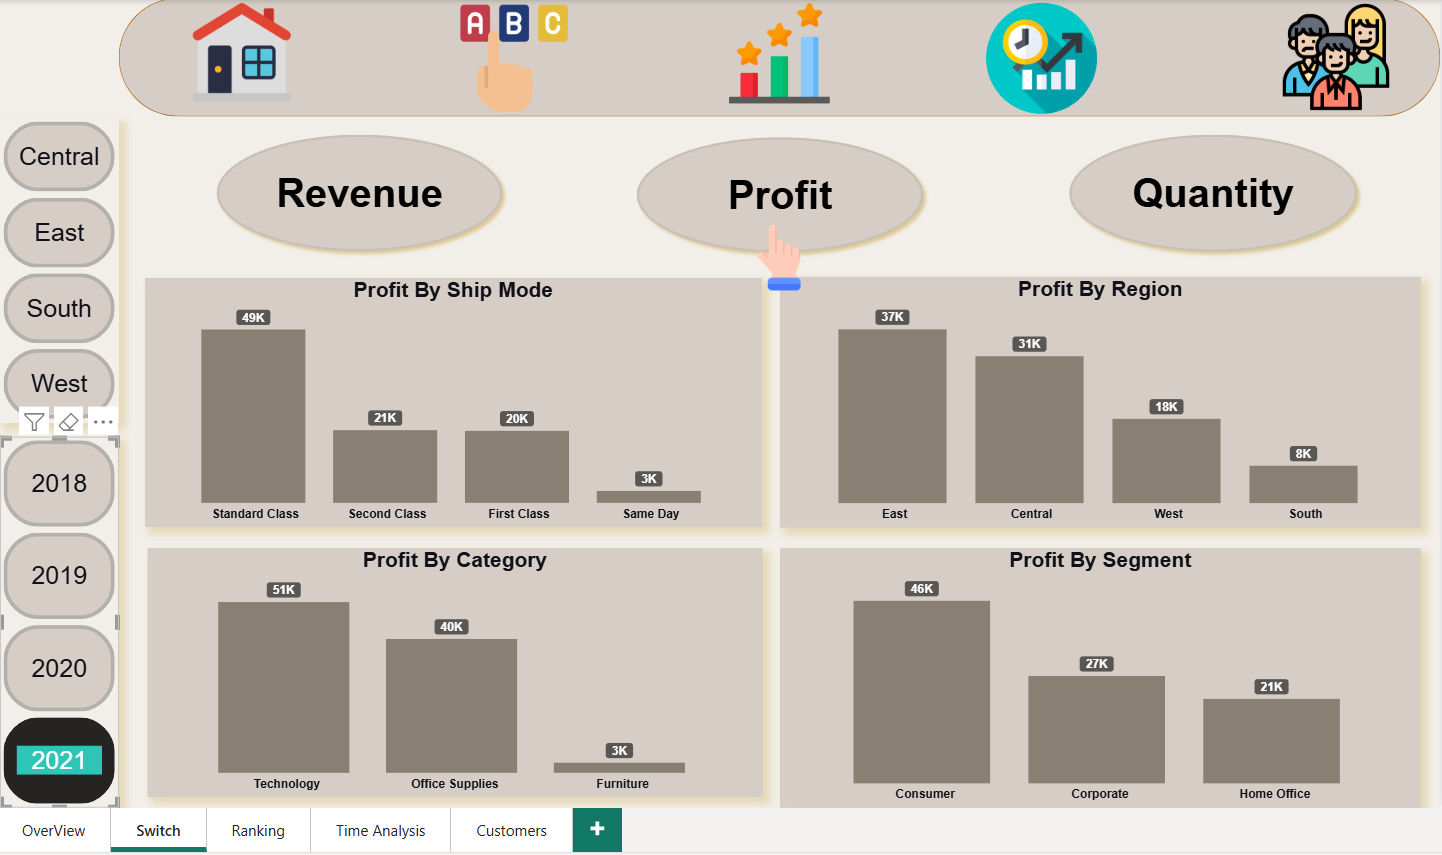

What the dashboard file says about the page in this screenshot:
{"tool":"powerbi","page":{"name":"Switch","canvas":[1920,1080],"ordinal":1},"visuals":[{"type":"shape","box":[158,0,1762,158],"z":0},{"type":"actionButton","title":"Button_qty","box":[1416,174,402,174],"z":2000},{"type":"actionButton","title":"Button_profit","box":[840,176,400,172],"z":3000},{"type":"actionButton","title":"Button_rev","box":[280.7,173.4,398.7,173.4],"z":4000},{"type":"clusteredColumnChart","title":"Qty By Ship Mode","fields":{"Category":["Dim_Order.Ship Mode"],"Y":["Dax.Total_Quantity"]},"box":[194,374,822,332],"z":9000},{"type":"clusteredColumnChart","title":"Qty By Region","fields":{"Category":["Dim_Customer.Region"],"Y":["Dax.Total_Quantity"]},"box":[1038,374,852,332],"z":11000},{"type":"clusteredColumnChart","title":"Qty By Category","fields":{"Category":["Dim_Product.Category"],"Y":["Dax.Total_Quantity"]},"box":[196,734,820,332],"z":13000},{"type":"clusteredColumnChart","title":"Qty By Segment","fields":{"Category":["Dim_Order.Segment"],"Y":["Dax.Total_Quantity"]},"box":[1038,748,852,332],"z":15000},{"type":"image","title":"Image_qty","box":[1564,246,120,204],"z":17000},{"type":"image","box":[230.7,0,184.2,144.8],"z":19000},{"type":"image","box":[606,2,158,158],"z":20000},{"type":"image","box":[1704,0,156,158],"z":21000},{"type":"image","box":[960,2,158,144],"z":22000},{"type":"image","box":[1310,2,158,158],"z":23000},{"type":"advancedSlicerVisual","fields":{"Values":["Dim_Customer.Region"]},"box":[0,160,158.3,406.7],"z":24000},{"type":"advancedSlicerVisual","fields":{"Values":["Calendar_Table.Year"]},"box":[0,585.7,158.6,494.3],"z":25000}]}

Visuals, with their boxes on the page's 1920x1080 design canvas (x1, y1, x2, y2). These are canvas units, not pixel positions in the 1442x855 screenshot, which may show the page scaled, cropped or inside an application window:
shape: l=158, t=0, r=1920, b=158
"Button_qty" actionButton: l=1416, t=174, r=1818, b=348
"Button_profit" actionButton: l=840, t=176, r=1240, b=348
"Button_rev" actionButton: l=281, t=173, r=679, b=347
"Qty By Ship Mode" clusteredColumnChart: l=194, t=374, r=1016, b=706
"Qty By Region" clusteredColumnChart: l=1038, t=374, r=1890, b=706
"Qty By Category" clusteredColumnChart: l=196, t=734, r=1016, b=1066
"Qty By Segment" clusteredColumnChart: l=1038, t=748, r=1890, b=1080
"Image_qty" image: l=1564, t=246, r=1684, b=450
image: l=231, t=0, r=415, b=145
image: l=606, t=2, r=764, b=160
image: l=1704, t=0, r=1860, b=158
image: l=960, t=2, r=1118, b=146
image: l=1310, t=2, r=1468, b=160
advancedSlicerVisual - Dim_Customer.Region: l=0, t=160, r=158, b=567
advancedSlicerVisual - Calendar_Table.Year: l=0, t=586, r=159, b=1080
